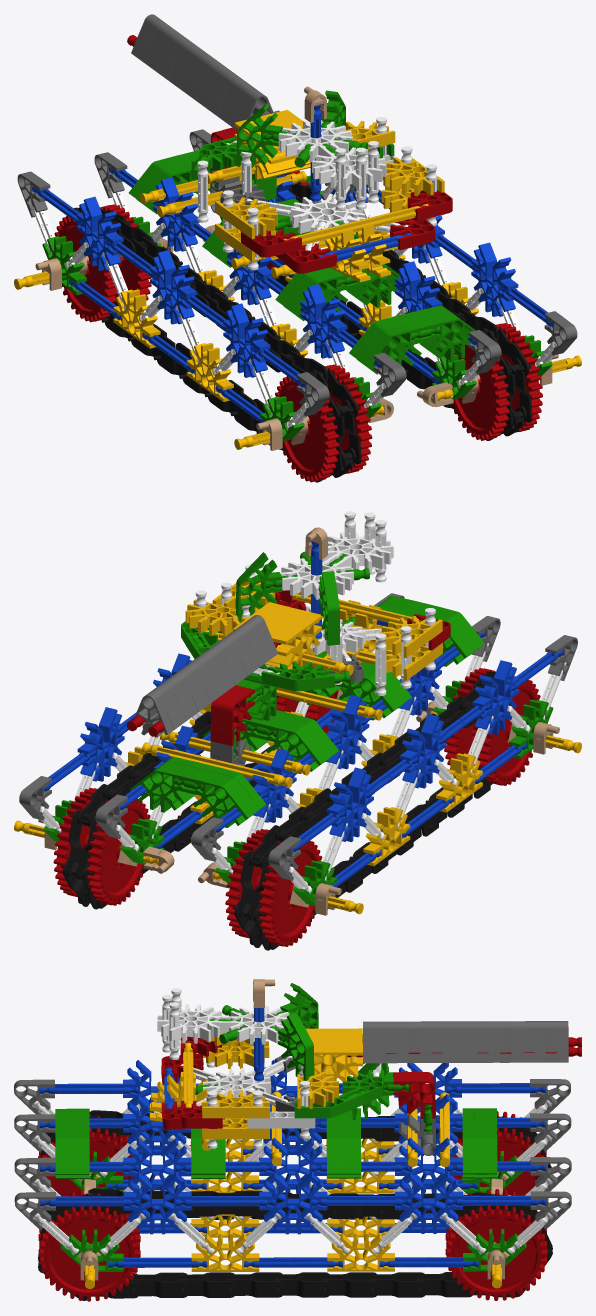
3 renders of one model, top to bottom at view 1: azimuth 30°, elevation 25°; view 2: azimuth 150°, elevation 25°; view 3: azimuth 270°, elevation 25°, orthographic. The views are drawn at different scales.
Parts seen in each view (by area): view 1: B2_L15.001, B2_L15.003, B2_L15.002, B2_L15.006, B2_L15.004, B2_L15, B2_L15.005, B2_L15.008; view 2: B2_L15.003, B2_L15.001, B2_L15.002, B2_L15.006, B2_L15.004, B2_L15.005, B2_L15, B2_L15.008; view 3: B2_L15.001, B2_L15.002, B2_L15.003, B2_L15.006, B2_L15.005, B2_L15, B2_L15.004, B2_L15.008, B2_L15.007.
Boxes of the visible parts, bbox=[...] form: B2_L15.001: bbox=[32, 104, 552, 422]; B2_L15.003: bbox=[42, 90, 552, 441]; B2_L15.002: bbox=[14, 110, 581, 449]; B2_L15.006: bbox=[54, 35, 542, 482]; B2_L15.004: bbox=[29, 117, 561, 429]; B2_L15: bbox=[74, 173, 533, 482]; B2_L15.005: bbox=[17, 14, 577, 416]; B2_L15.008: bbox=[35, 86, 558, 450]; B2_L15.003: bbox=[44, 551, 553, 905]; B2_L15.001: bbox=[43, 541, 563, 887]; B2_L15.002: bbox=[14, 582, 581, 914]; B2_L15.006: bbox=[53, 590, 540, 946]; B2_L15.004: bbox=[39, 511, 566, 893]; B2_L15.005: bbox=[19, 593, 577, 880]; B2_L15: bbox=[61, 667, 495, 950]; B2_L15.008: bbox=[38, 527, 559, 915]; B2_L15.001: bbox=[39, 1008, 546, 1267]; B2_L15.002: bbox=[84, 1028, 501, 1288]; B2_L15.003: bbox=[55, 983, 526, 1271]; B2_L15.006: bbox=[38, 1036, 581, 1301]; B2_L15.005: bbox=[14, 1021, 571, 1230]; B2_L15: bbox=[38, 1110, 552, 1300]; B2_L15.004: bbox=[32, 988, 553, 1254]; B2_L15.008: bbox=[77, 979, 511, 1280]; B2_L15.007: bbox=[247, 1111, 315, 1128].
Size of the model in its own units: 0.2016 by 0.1668 by 0.3104.
